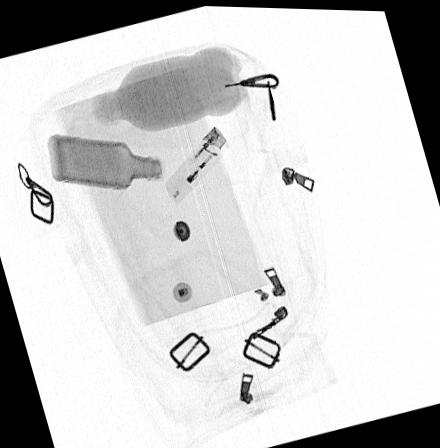Lighter: (164, 124, 229, 203)
